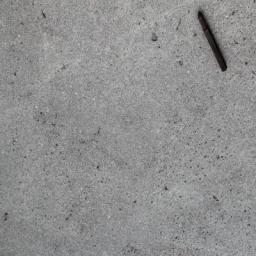FOD: (193, 12, 233, 76)
